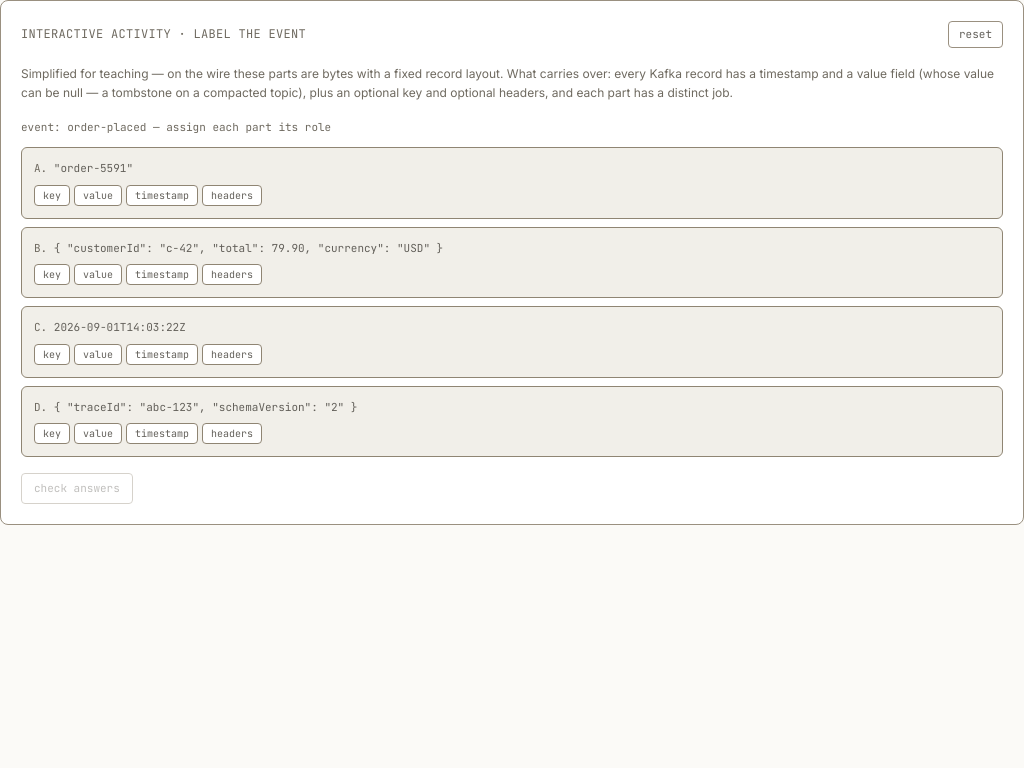
Test: LabelTheEventDemo › marks a wrong label and explains the real role
Click the button "value" below "\"order-5591\"". click: click(98, 195)
box: [74,184,122,206]
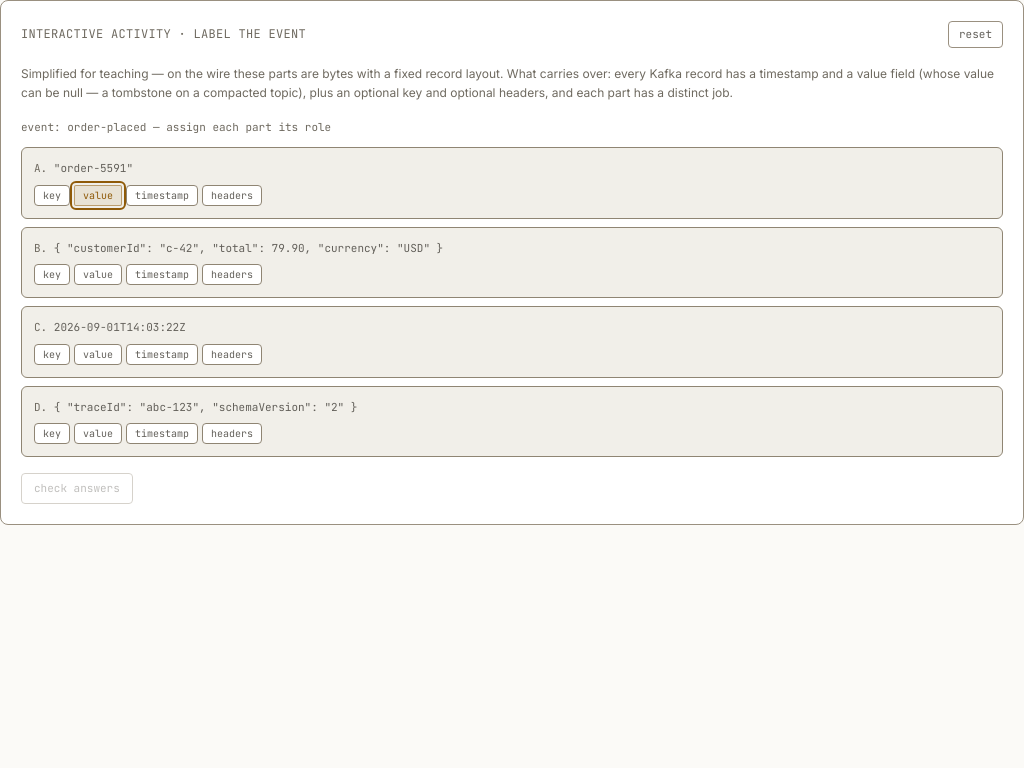
Click the 2nd button "value". click: click(98, 274)
box: [74,264,122,285]
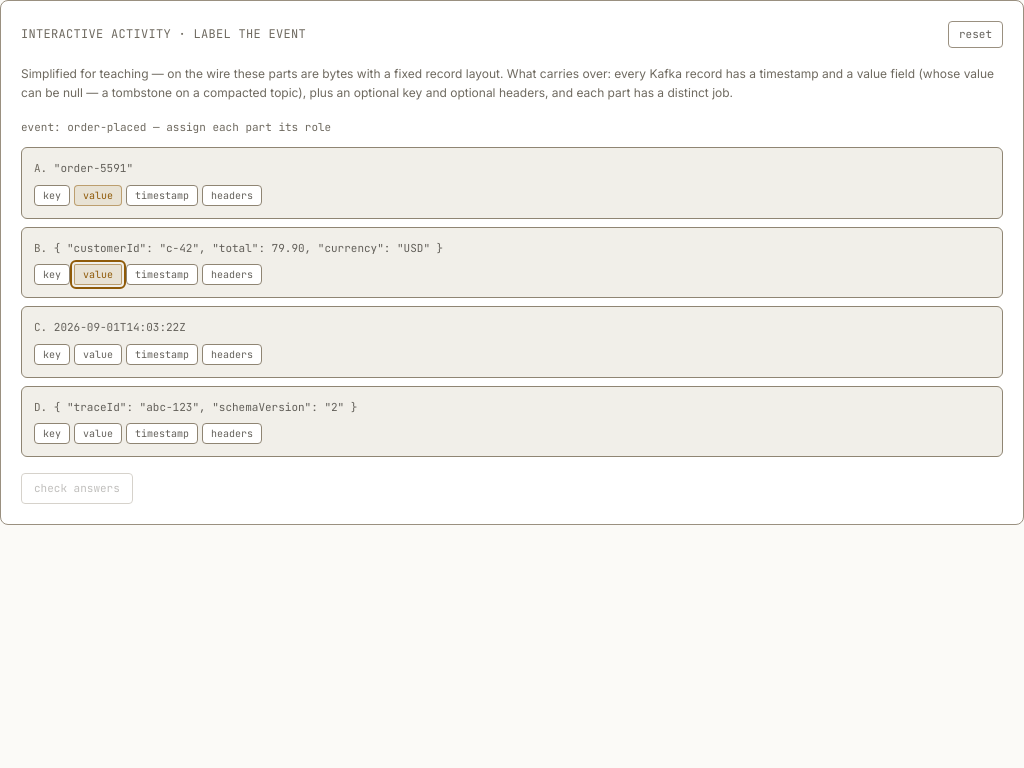
Click the button "timestamp" below "2026-09-01T14:03:22Z". click: click(162, 354)
box: [126,344,198,364]
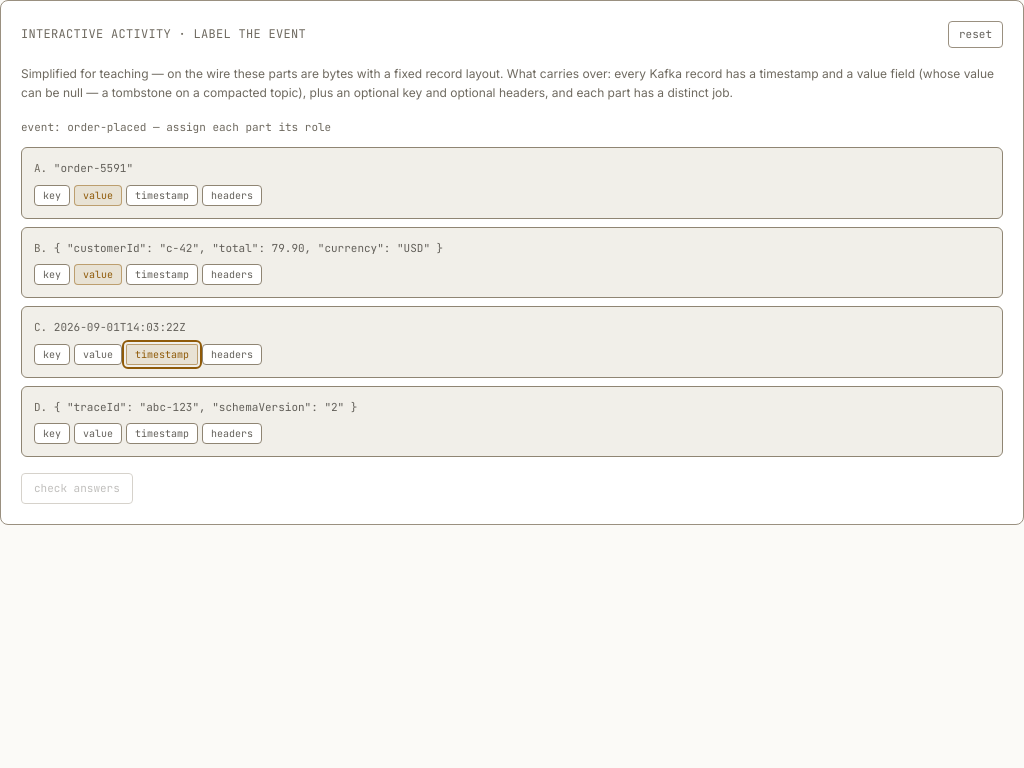
Click the 4th button "headers". click: click(232, 434)
box: [202,423,262,444]
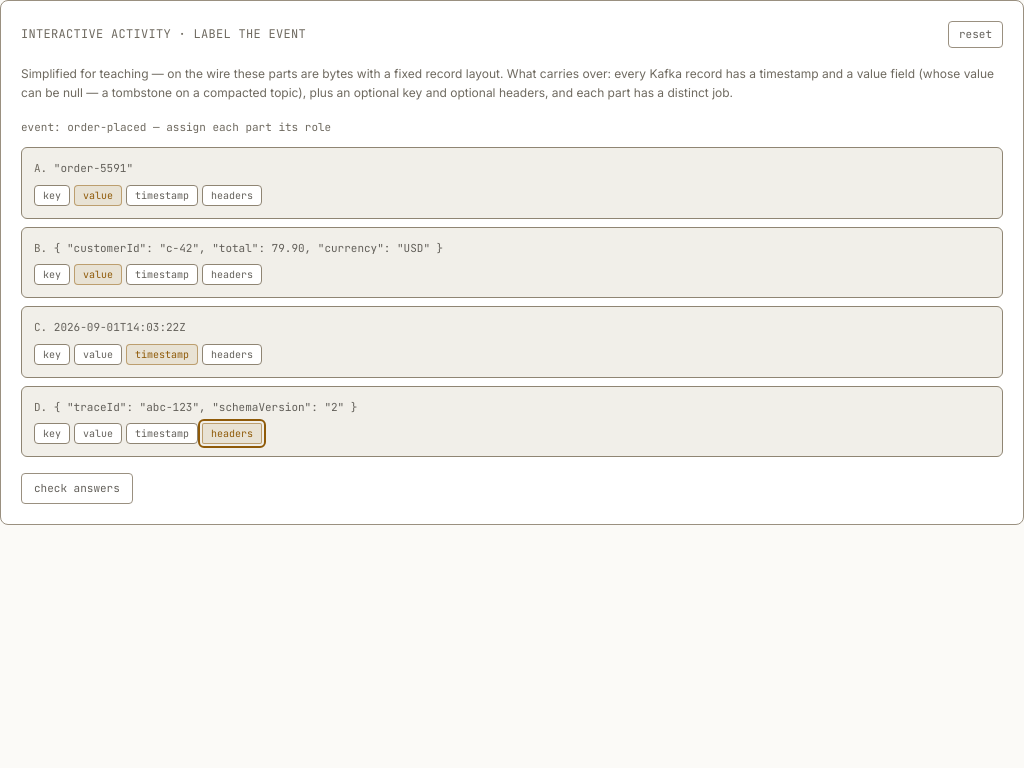
Click the button "check answers". click: click(77, 488)
box: [21,473,133,504]
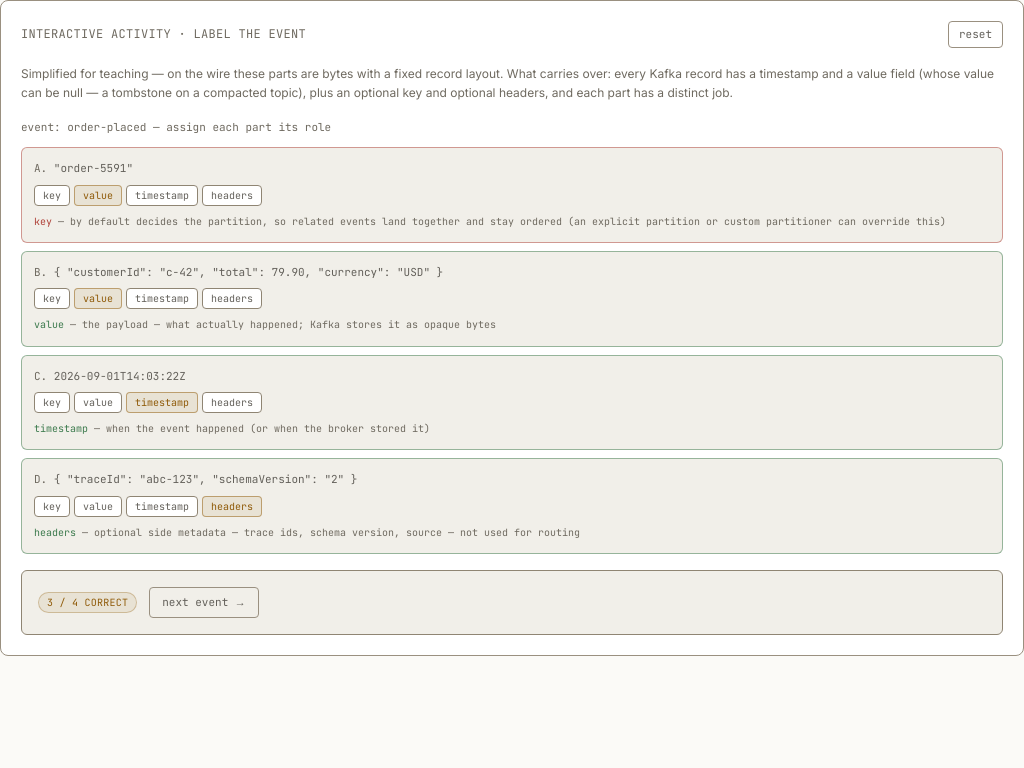
expect the element with test id "wk-label-result" shows "3 / 4 correct": met, box [21,570,1003,634]
expect the element with test id "wk-label-part-A" shows "by default decides the partition": met, box [70,214,946,228]
